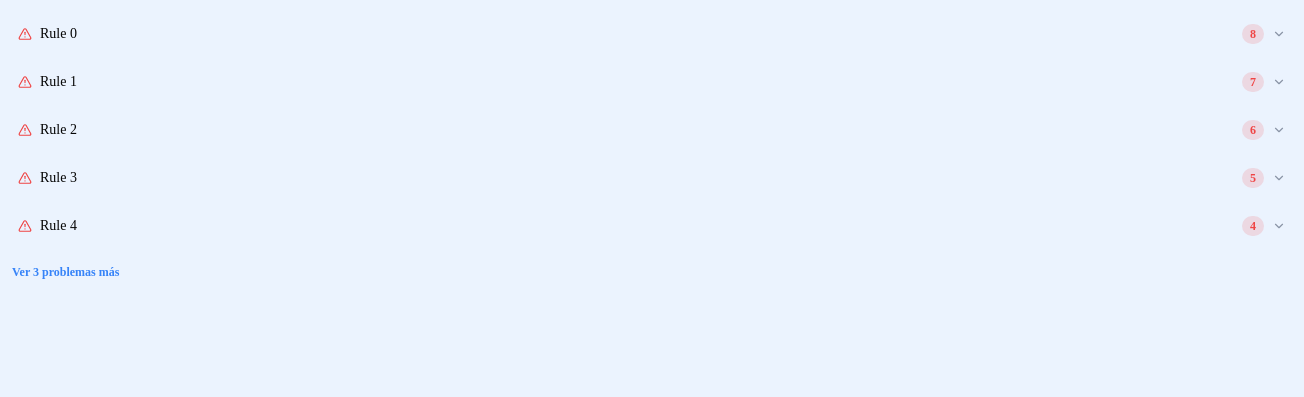
Test: RuleSummaryChart › shows five rows first and offers the rest
The image size is (1304, 397).
Click the button "Ver 3 problemas más" at (66, 270), box left=12, top=248, right=120, bottom=292
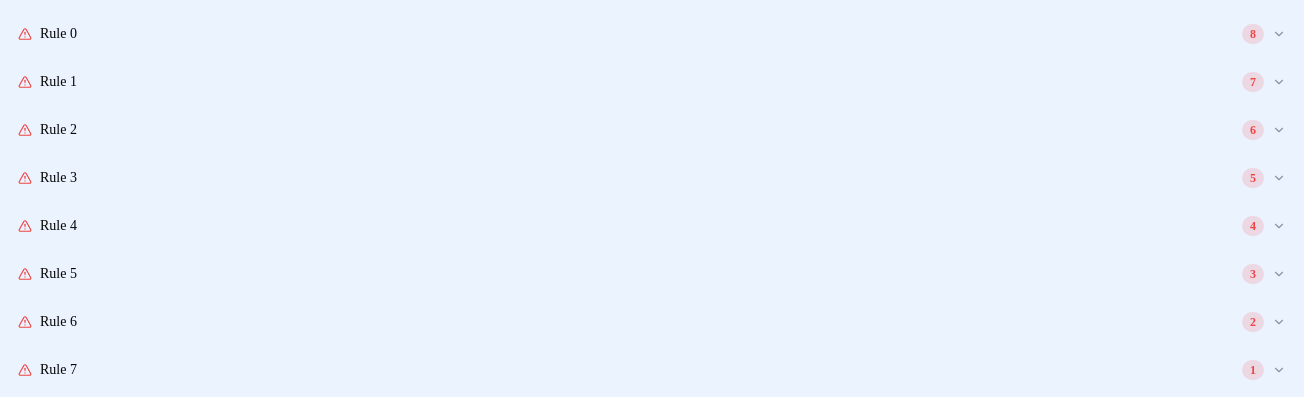
Result: the number of buttons is 8
